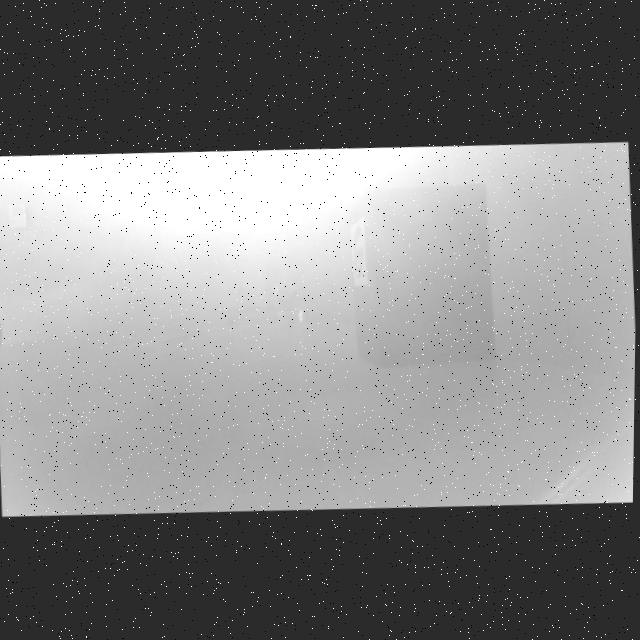G: (355, 224, 365, 275)
